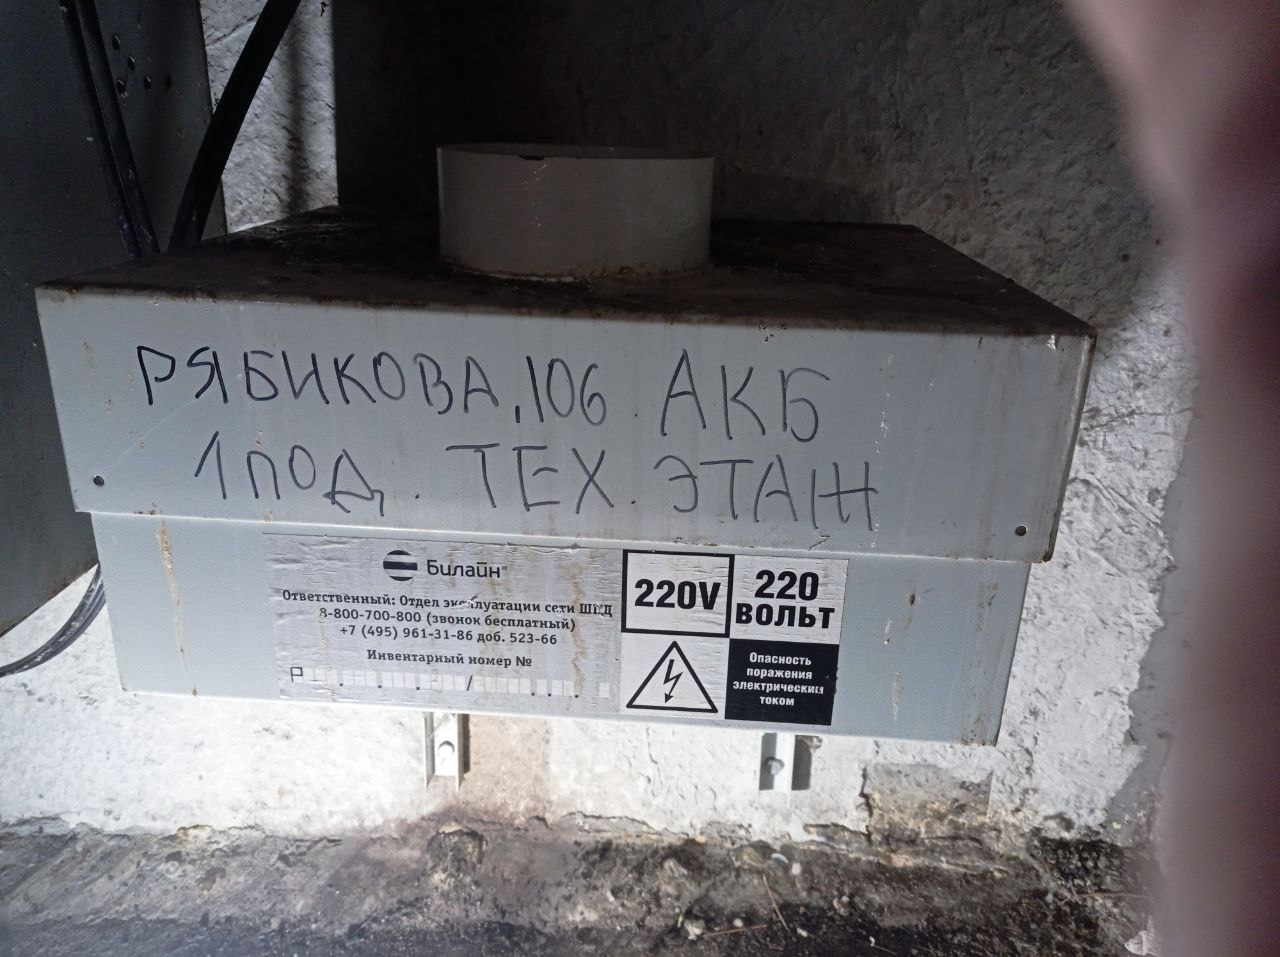shta-ps: (21, 95, 1104, 773)
